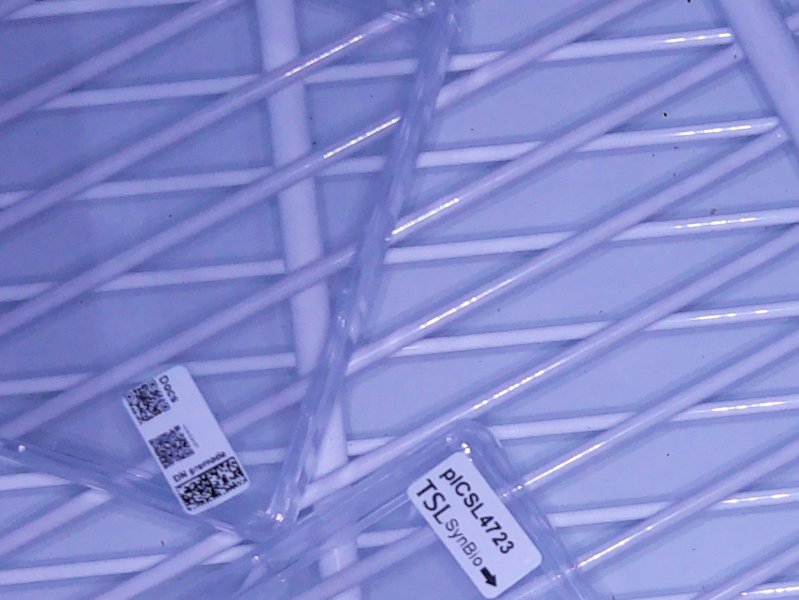plate: (1, 1, 466, 547), (201, 416, 600, 600)
